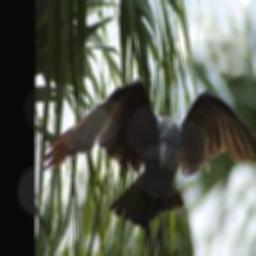Crow: (43, 75, 256, 256)
